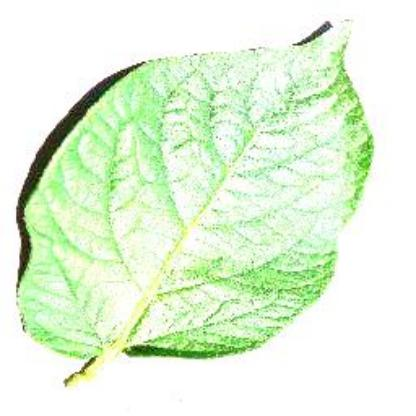Healthy-plant: (11, 17, 385, 396)
